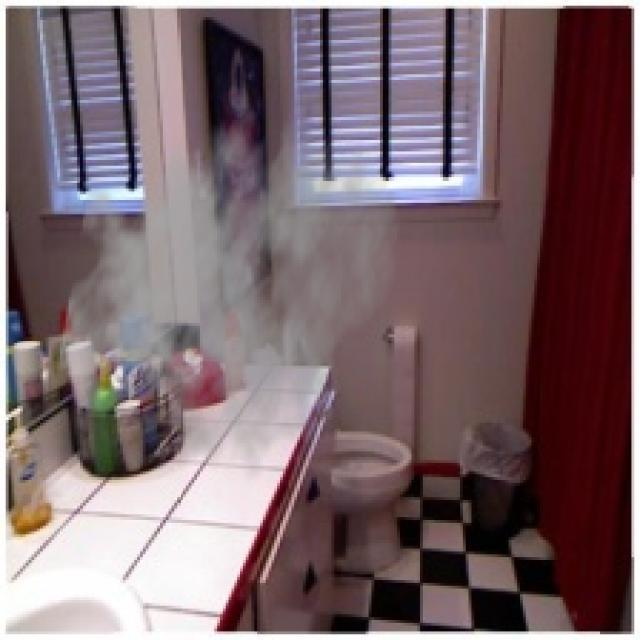Smoke: (54, 80, 403, 486)
